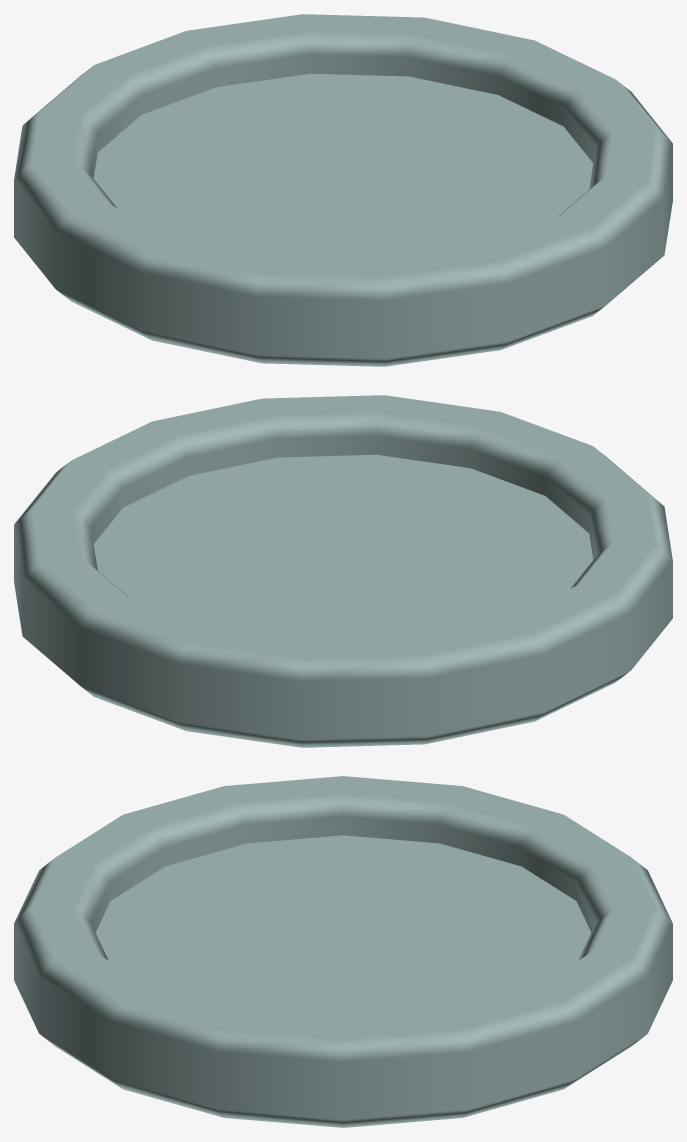
Rendered from coin1-2notex.fbx.
3 renders of one model, top to bottom at view 1: azimuth 30°, elevation 25°; view 2: azimuth 150°, elevation 25°; view 3: azimuth 270°, elevation 25°, orthographic.
Visible parts, largest first — view 1: coin1-2notex; view 2: coin1-2notex; view 3: coin1-2notex.
Part boxes in pixels (bbox=[...]): coin1-2notex: bbox=[14, 14, 672, 366]; coin1-2notex: bbox=[14, 395, 672, 747]; coin1-2notex: bbox=[14, 776, 672, 1127].
Bounding box in the file's own units: 0.2999 × 0.0445 × 0.2999.
